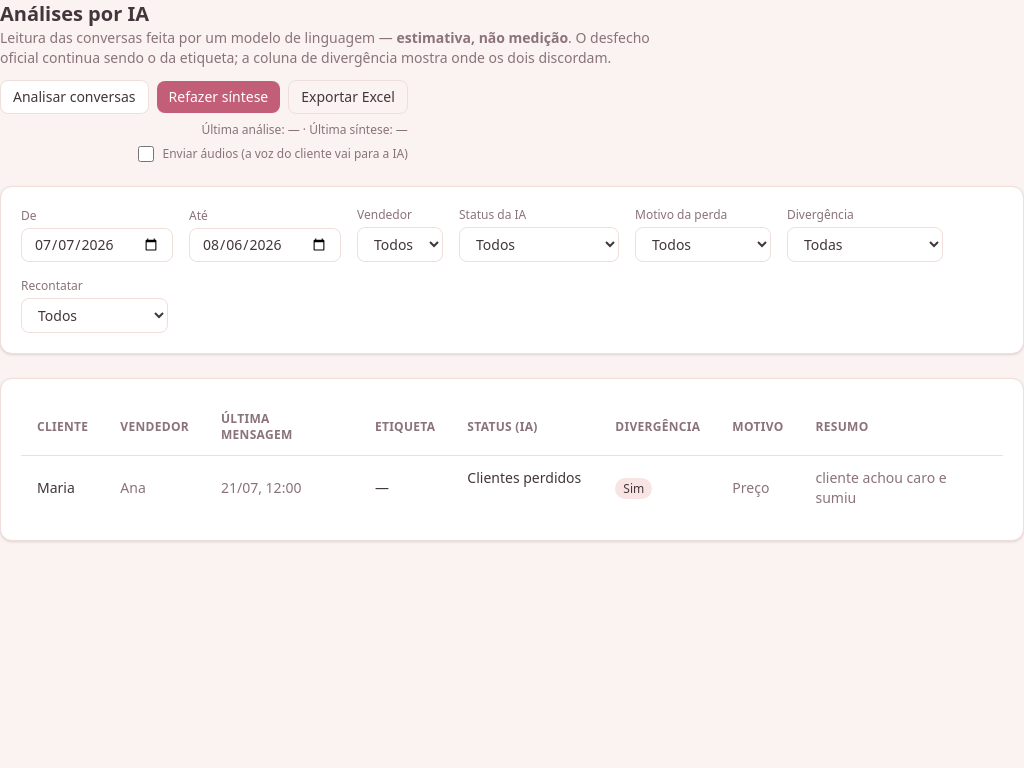
AiAnalysisPage › bloqueia a confirmação quando o saldo não cobre
Expected: the table with test id "analyses-table" is shown, [21,399,1003,520]
Click the button "Analisar conversas". click: point(74, 97)
box: [0,80,149,114]
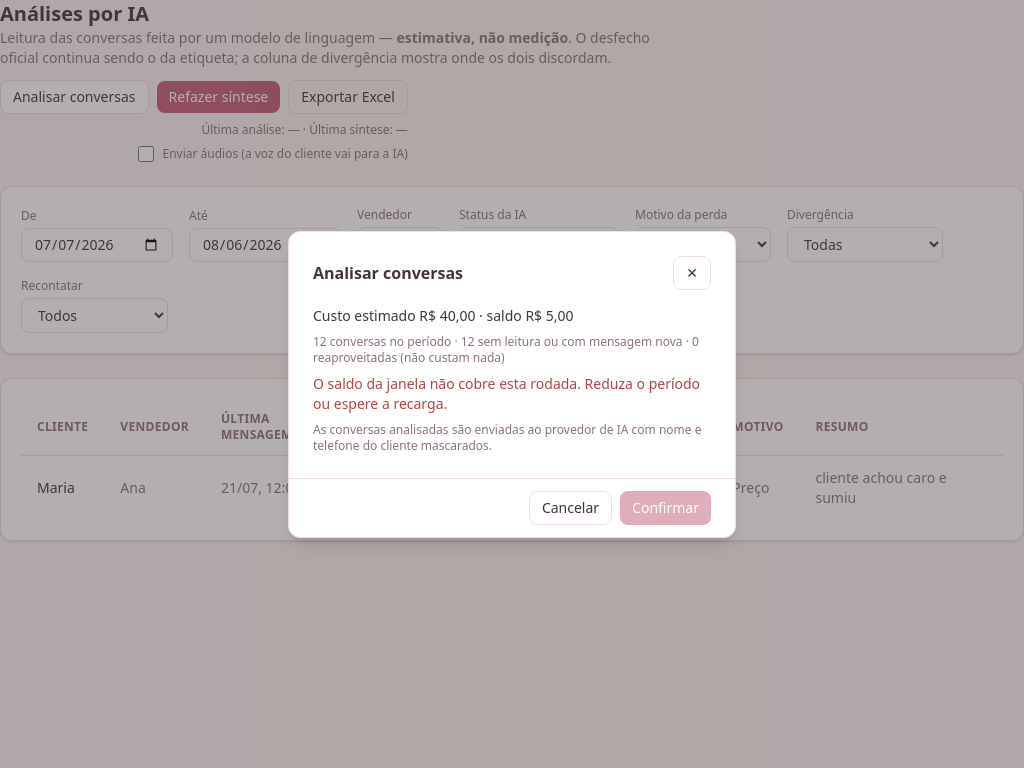
Now the text "O saldo da janela não cobre" is shown, box [313,374,700,412]
Now the button "Confirmar" is disabled, box [620,490,711,524]
